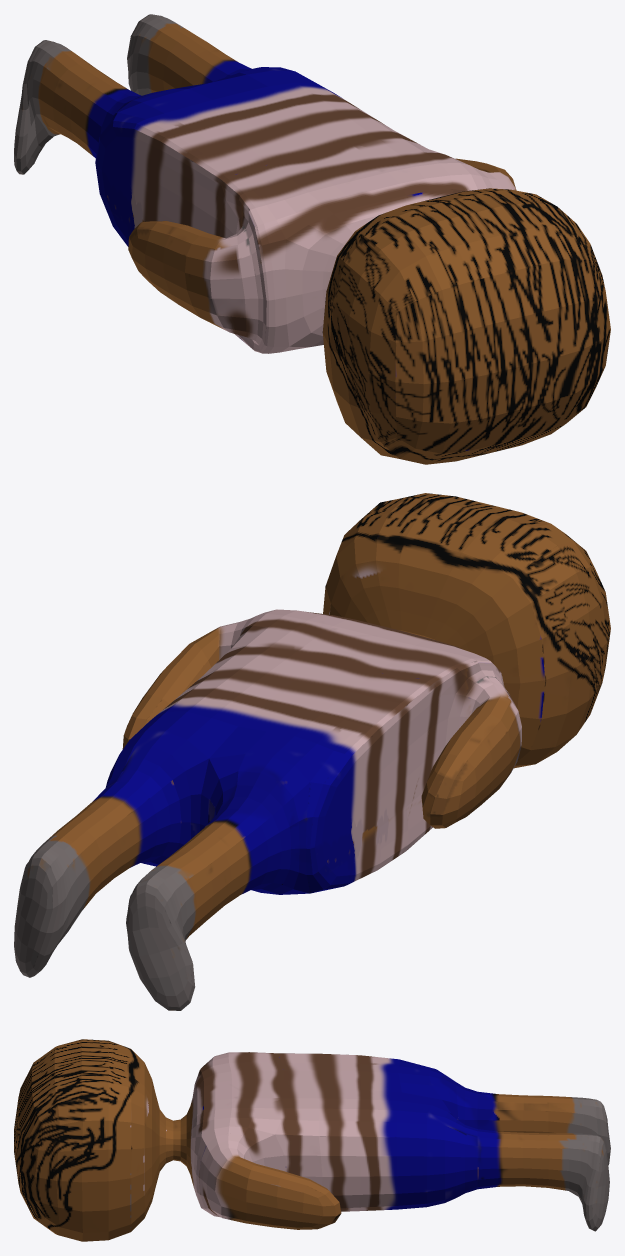
File: antman_stand_1.obj
3 renders of one model, top to bottom at view 1: azimuth 30°, elevation 25°; view 2: azimuth 150°, elevation 25°; view 3: azimuth 270°, elevation 25°, orthographic. The views are drawn at different scales.
Parts seen in each view (by area): view 1: Cube; view 2: Cube; view 3: Cube.
Boxes of the visible parts, x1,y1,x2,y2 form: Cube: [14, 14, 610, 464]; Cube: [14, 493, 610, 1010]; Cube: [14, 1039, 610, 1241].
Bounding box in the file's own units: 0.8731 × 0.5834 × 1.93.
